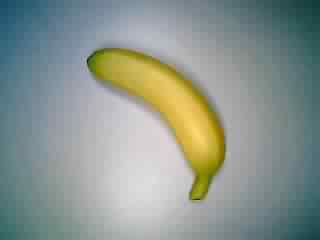banana: (80, 45, 231, 203)
